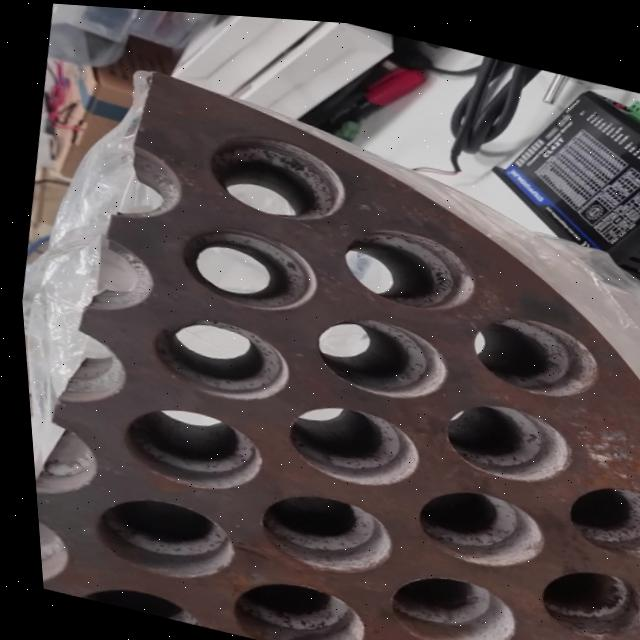Hole: (194, 118, 349, 227), (135, 303, 291, 410), (106, 394, 263, 500), (164, 212, 319, 319), (76, 483, 231, 589), (329, 212, 478, 316), (301, 301, 450, 405), (243, 477, 390, 582), (271, 390, 419, 493), (428, 386, 572, 487), (457, 299, 600, 400), (400, 472, 543, 573), (370, 557, 514, 640), (214, 565, 360, 640), (522, 550, 640, 640), (53, 572, 200, 625), (551, 466, 640, 553), (493, 633, 622, 640)
